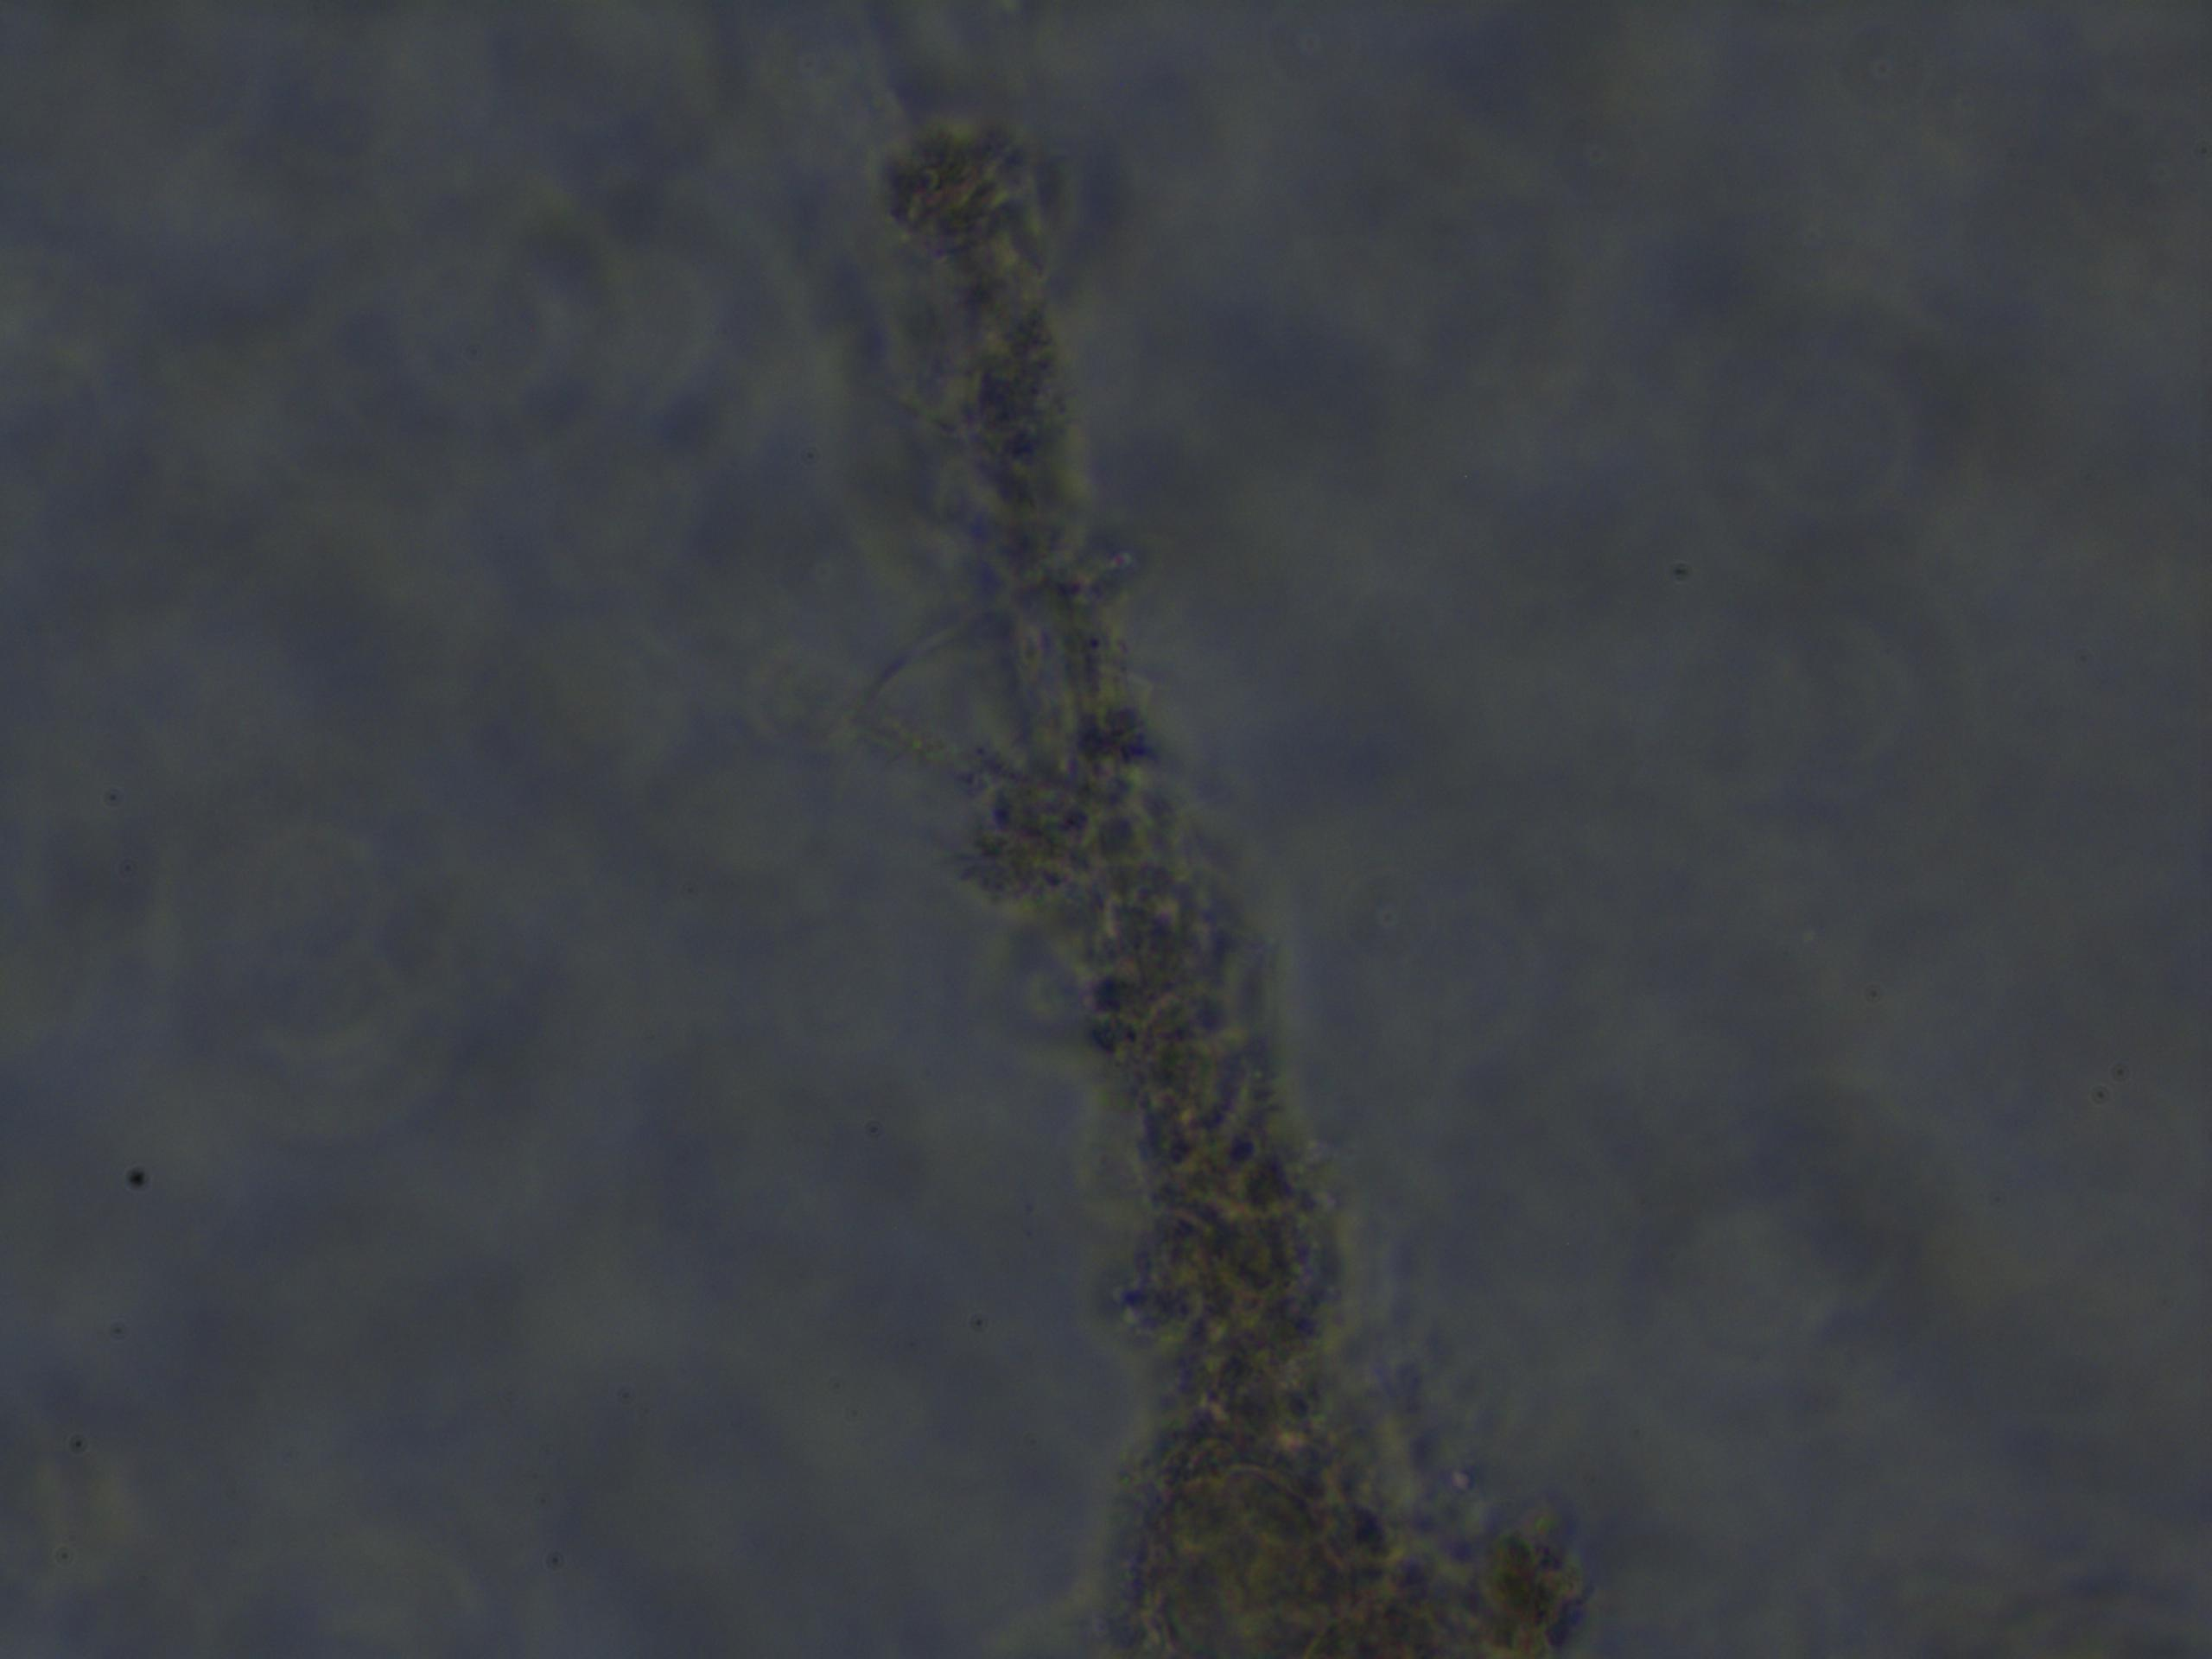filament: (864, 0, 1433, 1659)
